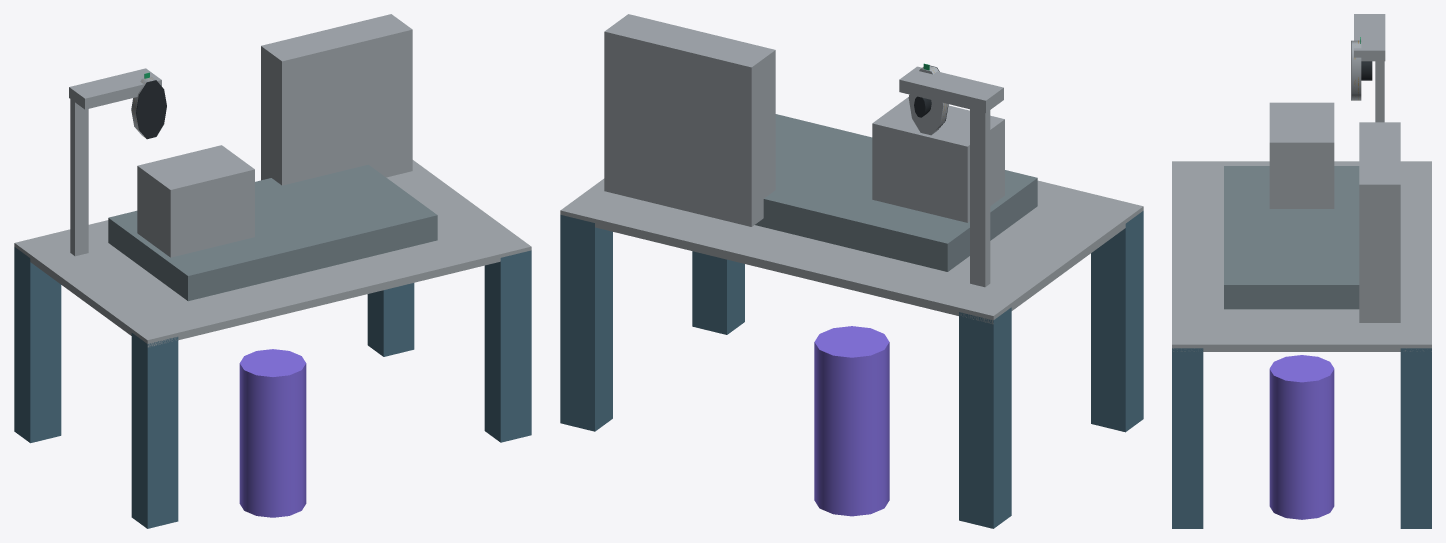
The picture shows the model from 3 angles, left to right: view 1: azimuth 30°, elevation 25°; view 2: azimuth 150°, elevation 25°; view 3: azimuth 270°, elevation 25°; orthographic projection. The views are drawn at different scales.
Parts seen in each view (by area): view 1: g4, g0006, g0003, visualJoint, g0005, g1, g3, g0, g2, g0004, g0002, g1001; view 2: g0006, g4, g0003, visualJoint, g0, g2, g0005, g1, g3, g0004, g0002, g0001; view 3: g4, g0003, visualJoint, g0006, g0005, g2, g3, g0002, g0004, g0001.
Part boxes in pixels (box(x1,y1,x2,y2)): g4: box(14, 160, 531, 347); g0006: box(261, 14, 412, 185); g0003: box(108, 164, 437, 301); visualJoint: box(239, 349, 306, 517); g0005: box(137, 145, 254, 257); g1: box(131, 333, 178, 528); g3: box(484, 250, 531, 442); g0: box(14, 247, 61, 443); g2: box(367, 283, 414, 356); g0004: box(70, 99, 88, 256); g0002: box(69, 68, 161, 109); g1001: box(136, 80, 166, 139); g0006: box(604, 14, 775, 226); g4: box(560, 178, 1143, 324); g0003: box(755, 114, 1037, 271); visualJoint: box(814, 326, 889, 516); g0: box(959, 307, 1011, 528); g2: box(560, 214, 612, 431); g0005: box(872, 97, 1004, 222); g1: box(1091, 211, 1143, 432); g3: box(692, 251, 744, 334); g0004: box(970, 109, 990, 287); g0002: box(899, 66, 1003, 112); g0001: box(908, 66, 948, 135); g4: box(1172, 161, 1431, 351); g0003: box(1224, 166, 1359, 309); visualJoint: box(1269, 355, 1334, 519); g0006: box(1359, 122, 1400, 322); g0005: box(1269, 102, 1334, 208); g2: box(1400, 348, 1431, 528); g3: box(1172, 348, 1203, 528); g0002: box(1354, 14, 1385, 61); g0004: box(1375, 61, 1384, 122); g0001: box(1352, 40, 1361, 100).
Size of the model in its own units: 2 by 2.15 by 1.2.
